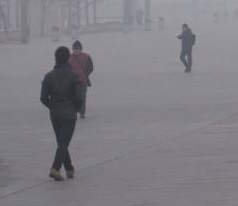person: (40, 45, 84, 183), (69, 39, 95, 120), (175, 22, 198, 74)
